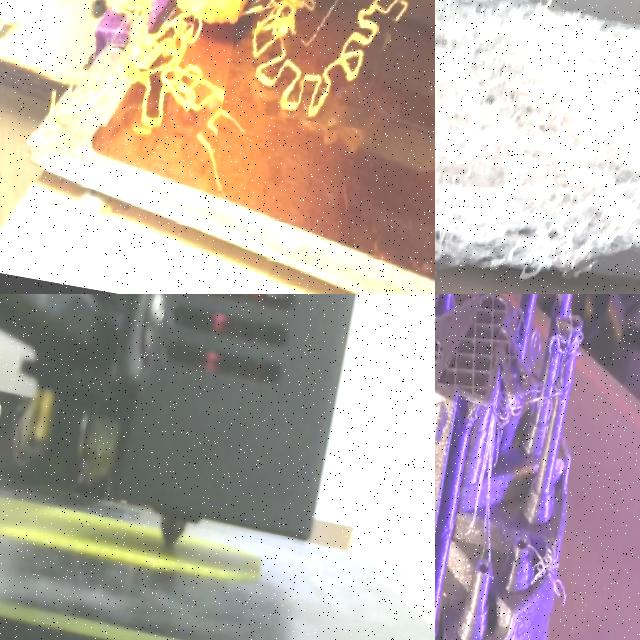spaghetti: (435, 0, 640, 286), (245, 0, 404, 123), (92, 0, 231, 139), (474, 294, 594, 447), (516, 534, 578, 618)
